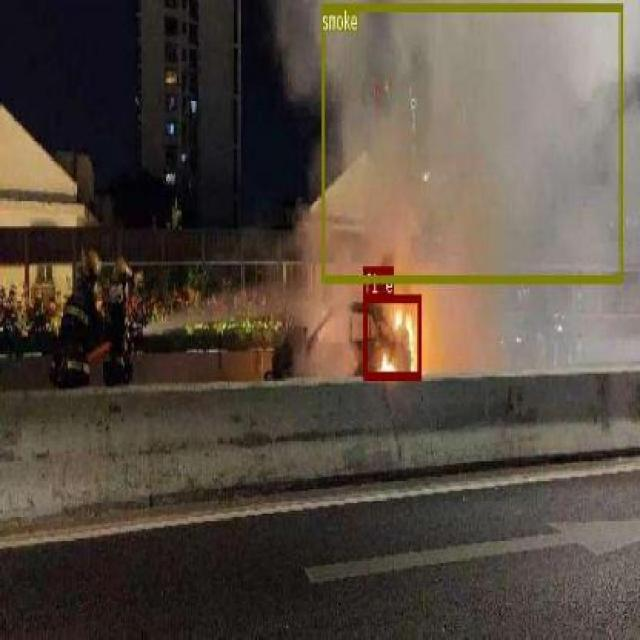fire: (362, 294, 420, 378)
smoke: (320, 2, 622, 281)
